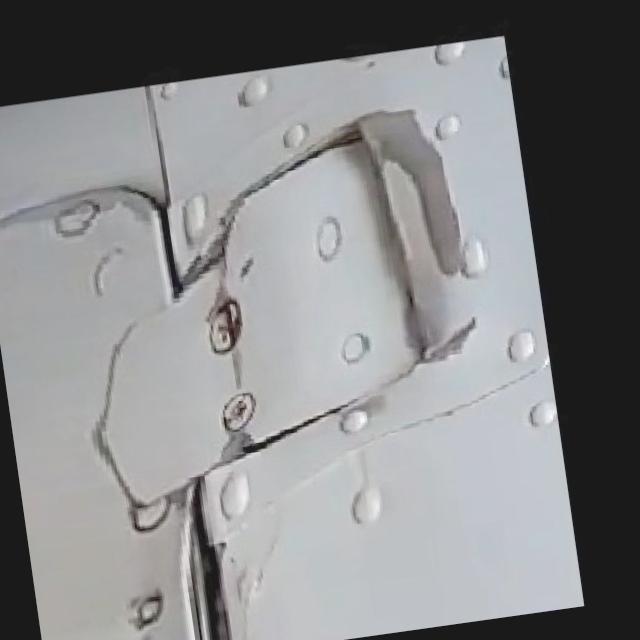crack: (208, 334, 273, 391)
